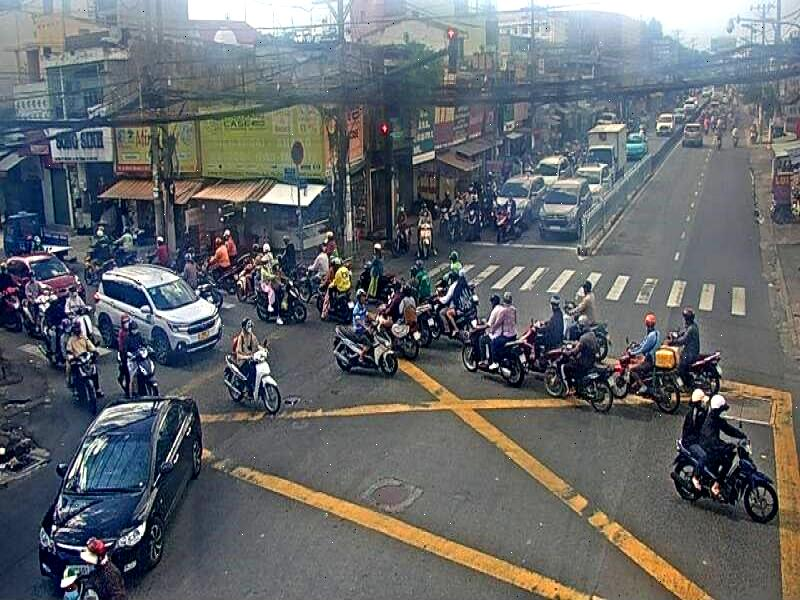bus: (534, 184, 583, 243), (582, 123, 628, 174), (535, 156, 569, 183)
car: (39, 396, 202, 582), (98, 264, 226, 363), (684, 124, 702, 139)
motorcycle: (671, 438, 780, 527), (466, 329, 531, 386), (330, 326, 396, 376), (223, 358, 283, 412), (649, 356, 689, 415)
